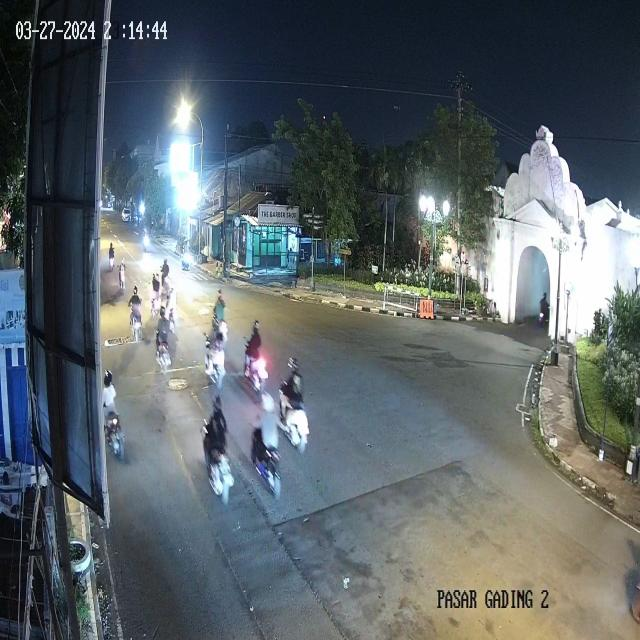motorcycle: (202, 388, 231, 509), (253, 393, 281, 507), (280, 352, 306, 454), (100, 366, 125, 463), (204, 314, 227, 392), (246, 319, 268, 396), (155, 307, 171, 370), (211, 286, 226, 346), (130, 286, 144, 344), (165, 283, 178, 335), (150, 273, 161, 318), (160, 258, 171, 290), (119, 256, 127, 292), (181, 238, 189, 272), (110, 241, 116, 268), (142, 227, 148, 253)
